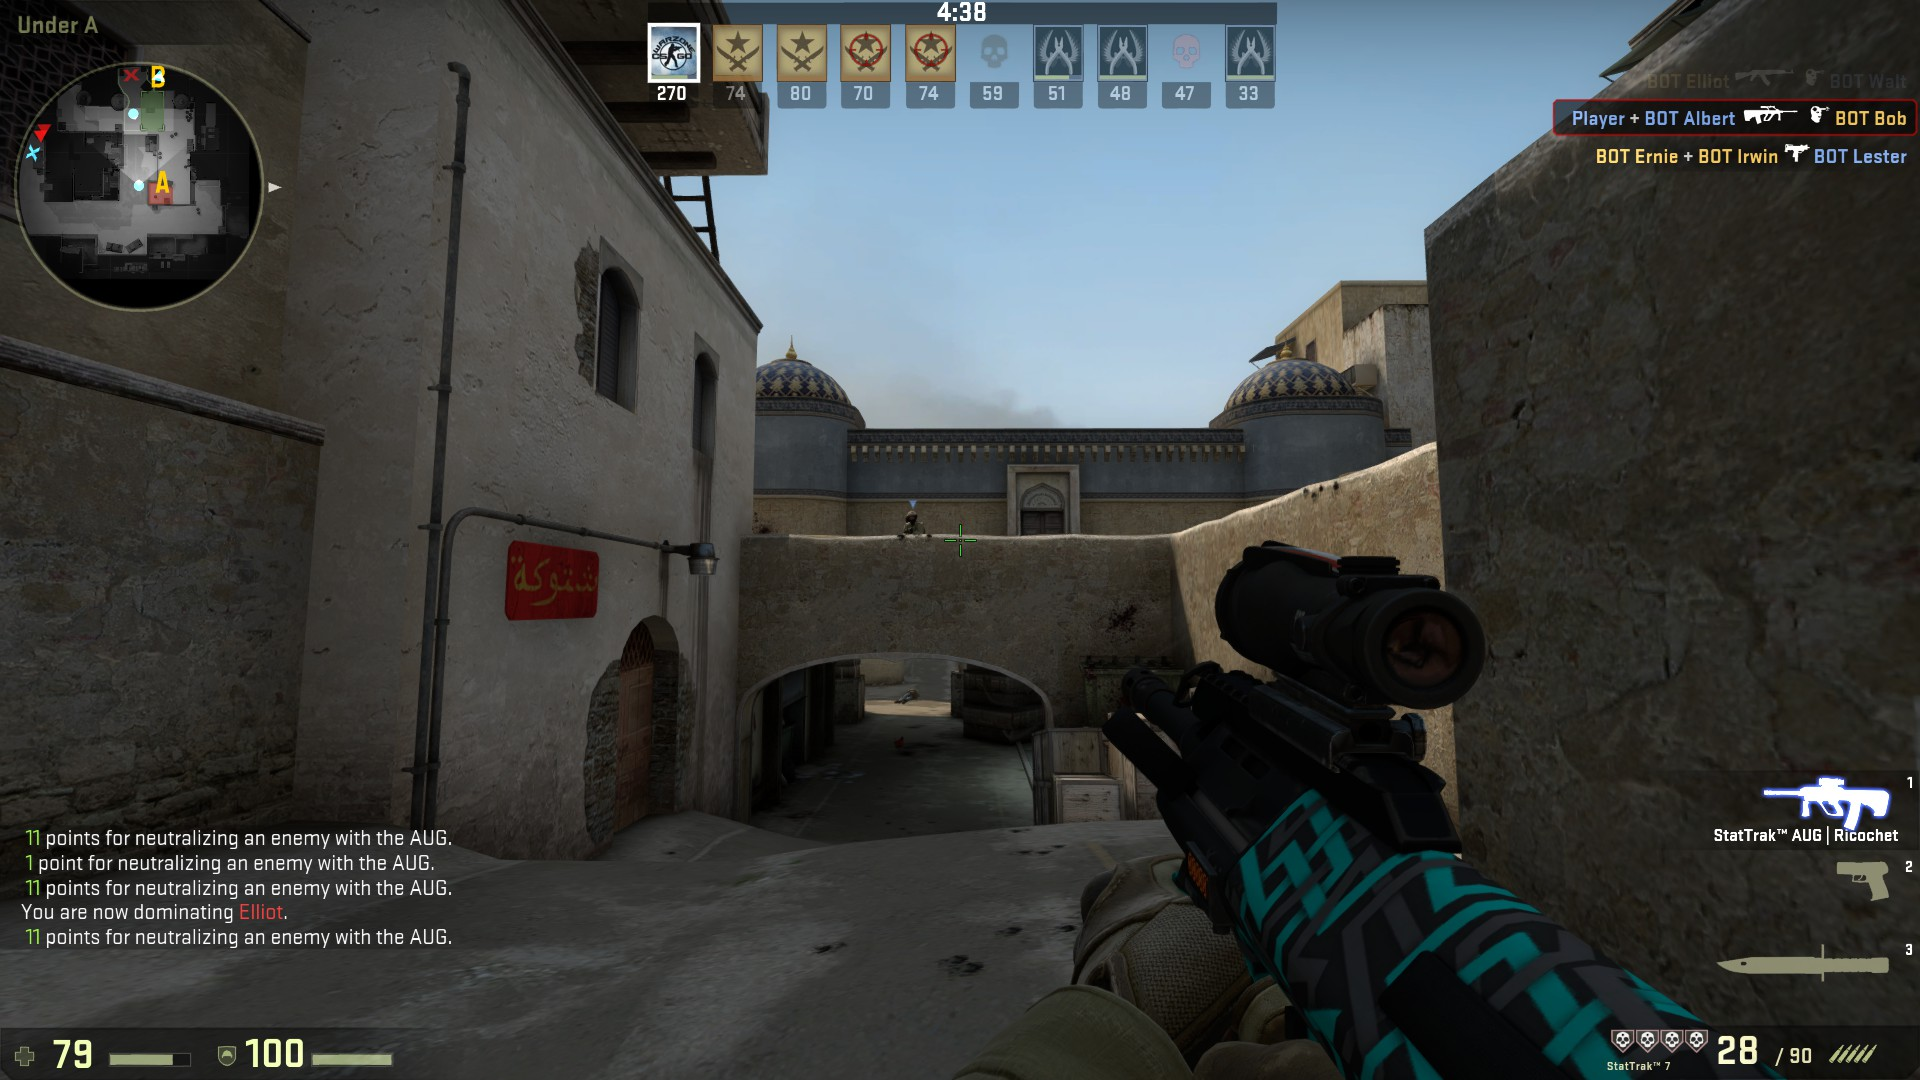c: (899, 512, 926, 535)
ch: (905, 510, 919, 525)
